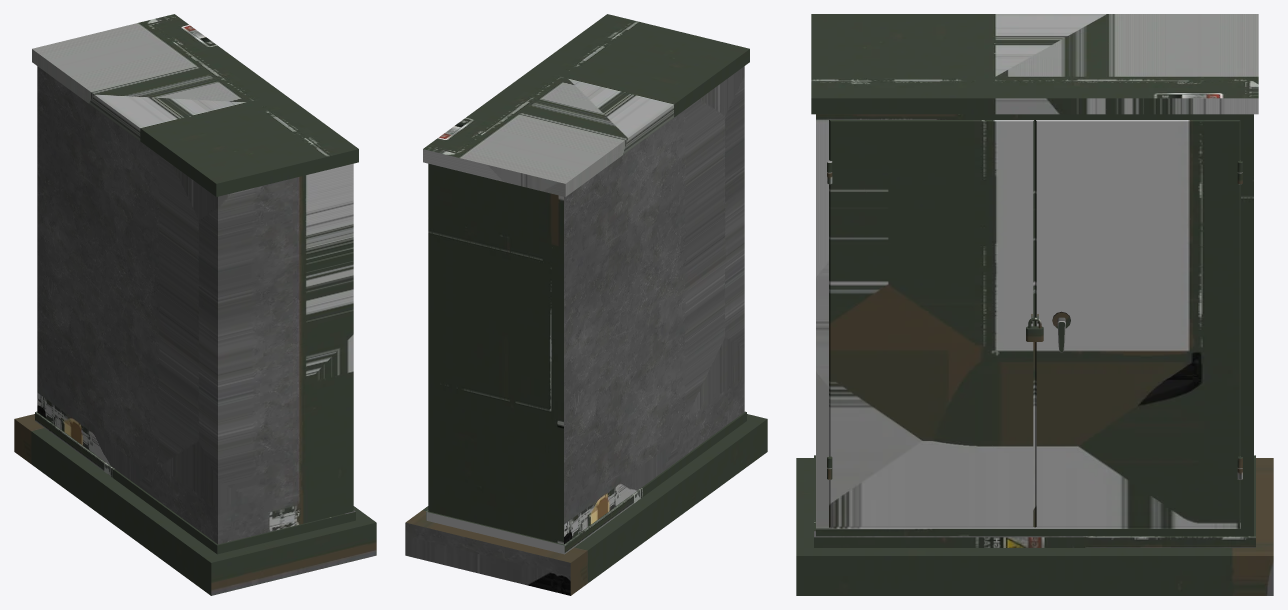
File: electrical_box_02.glb
3 views of the same model, side by side, from view 1: azimuth 30°, elevation 25°; view 2: azimuth 150°, elevation 25°; view 3: azimuth 270°, elevation 25° (orthographic). The views are drawn at different scales.
Parts seen in each view (by area): view 1: body; view 2: body; view 3: body.
Part boxes in pixels (x1,y1,x2,y2): body: (14, 14, 376, 595); body: (405, 14, 767, 595); body: (796, 14, 1273, 595).
Size of the model in its own units: 0.8979 by 2.1 by 1.85.
Materials: 1 (1 with a texture image).
